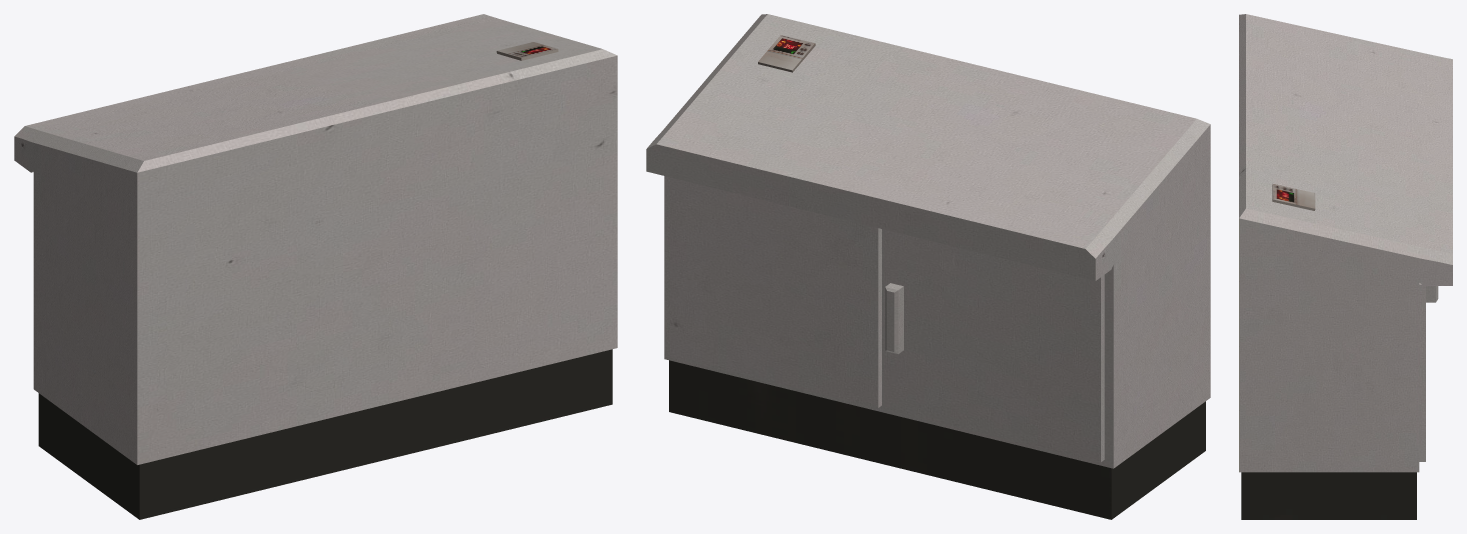
The model's file is pupitre.FBX.
3 views of the same model, side by side, from view 1: azimuth 30°, elevation 25°; view 2: azimuth 150°, elevation 25°; view 3: azimuth 270°, elevation 25° (orthographic). The views are drawn at different scales.
Parts seen in each view (by area): view 1: pupitre, Box001; view 2: pupitre, Box001; view 3: pupitre, Box001.
Boxes of the visible parts, x1,y1,x2,y2 form: pupitre: (14, 14, 617, 519); Box001: (496, 42, 558, 60); pupitre: (646, 14, 1210, 519); Box001: (758, 35, 815, 72); pupitre: (1239, 14, 1452, 519); Box001: (1272, 184, 1315, 210).
Bounding box in the file's own units: 70 × 49.46 × 31.07.
